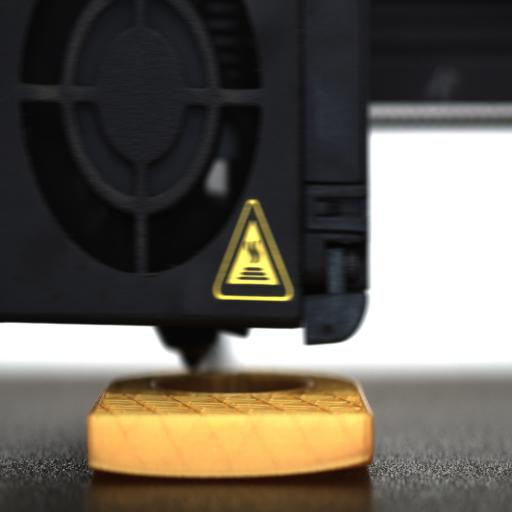warp: (323, 442, 381, 488), (82, 452, 162, 482)
